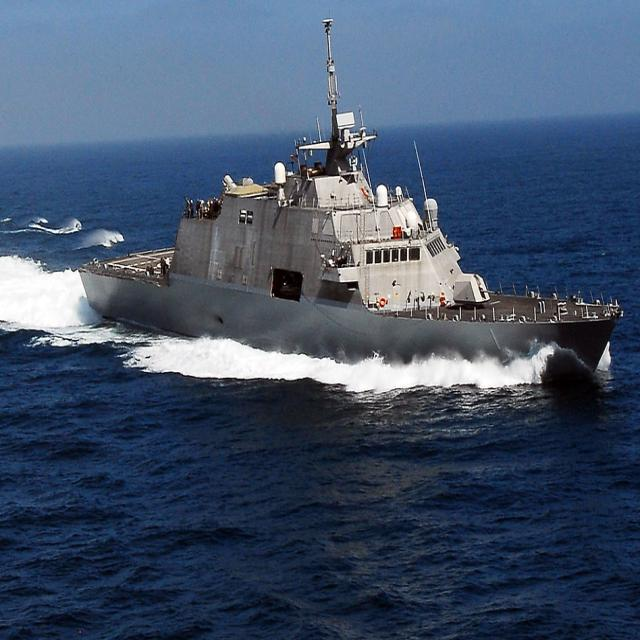navalvessels: (83, 40, 640, 398)
